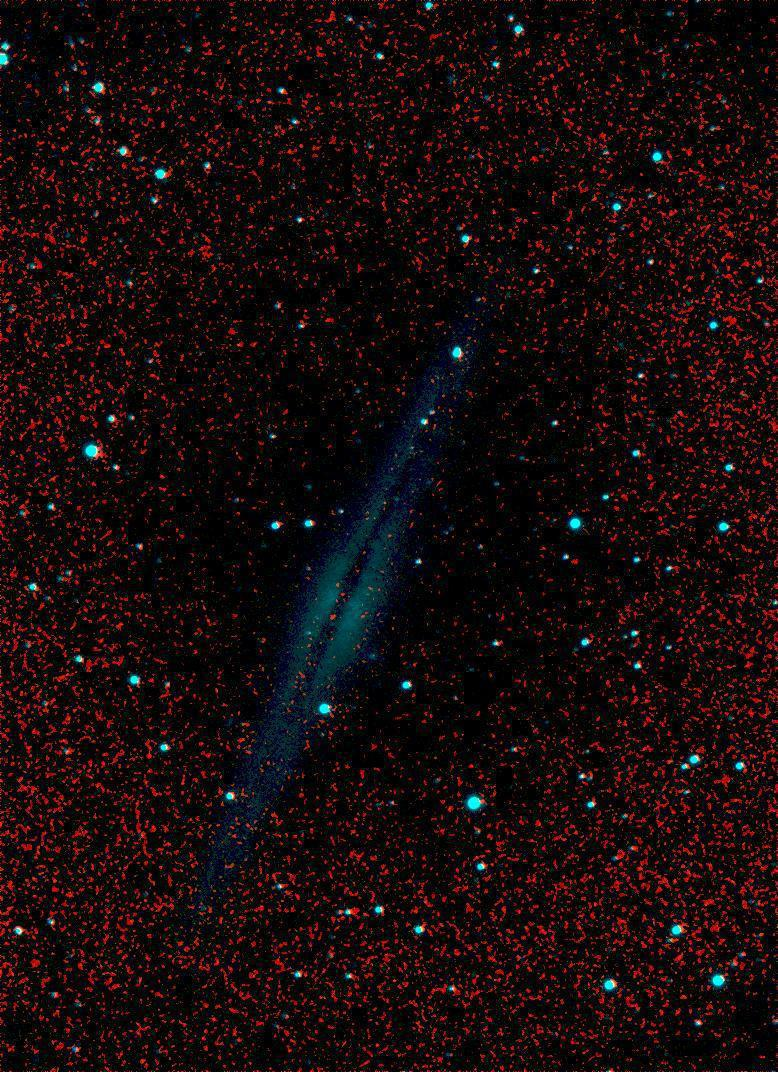star: (317, 604, 347, 634)
